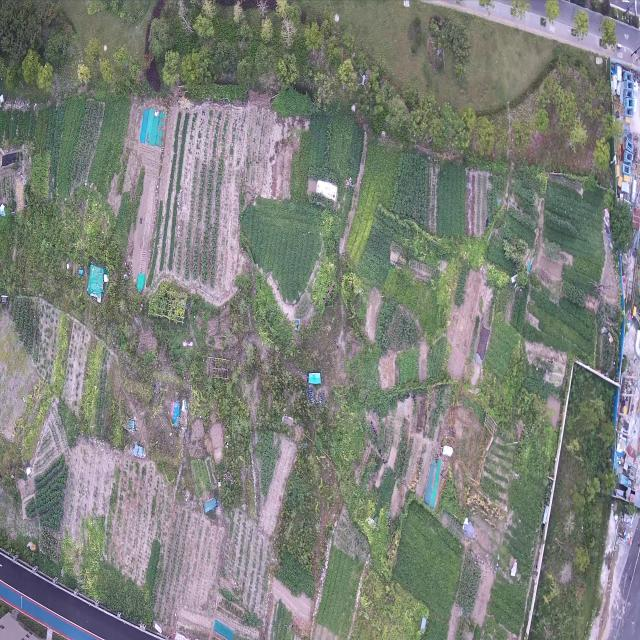UAV: (357, 70, 369, 90)
